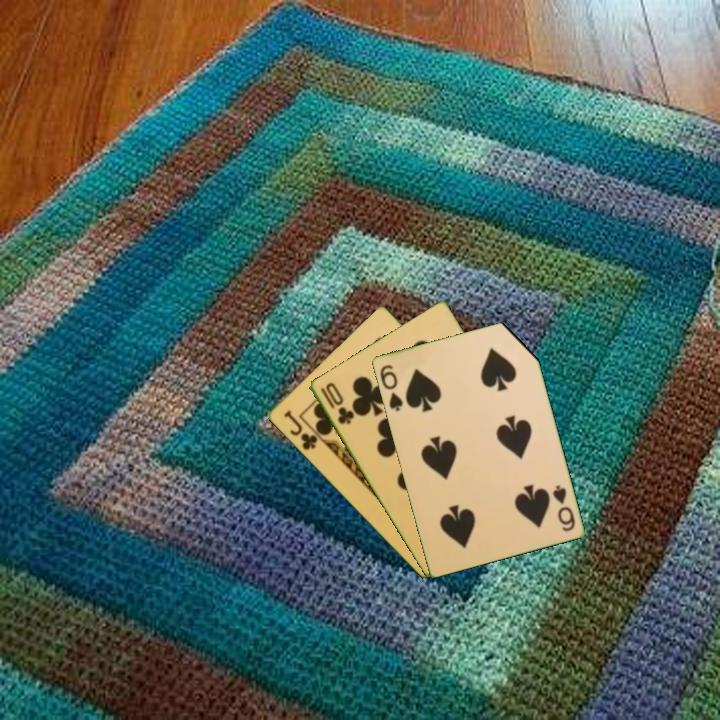10c: (316, 379, 356, 428)
6s: (376, 361, 406, 414), (549, 481, 578, 534)
Jc: (280, 406, 326, 453)
